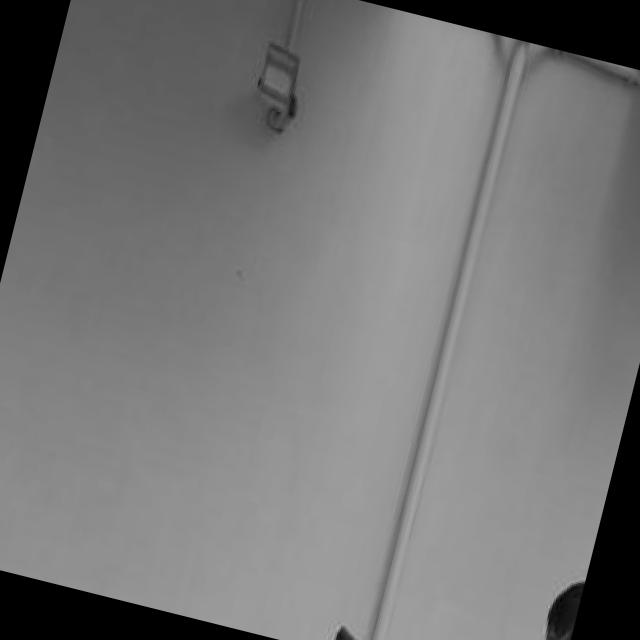Guns: (312, 593, 423, 640)
